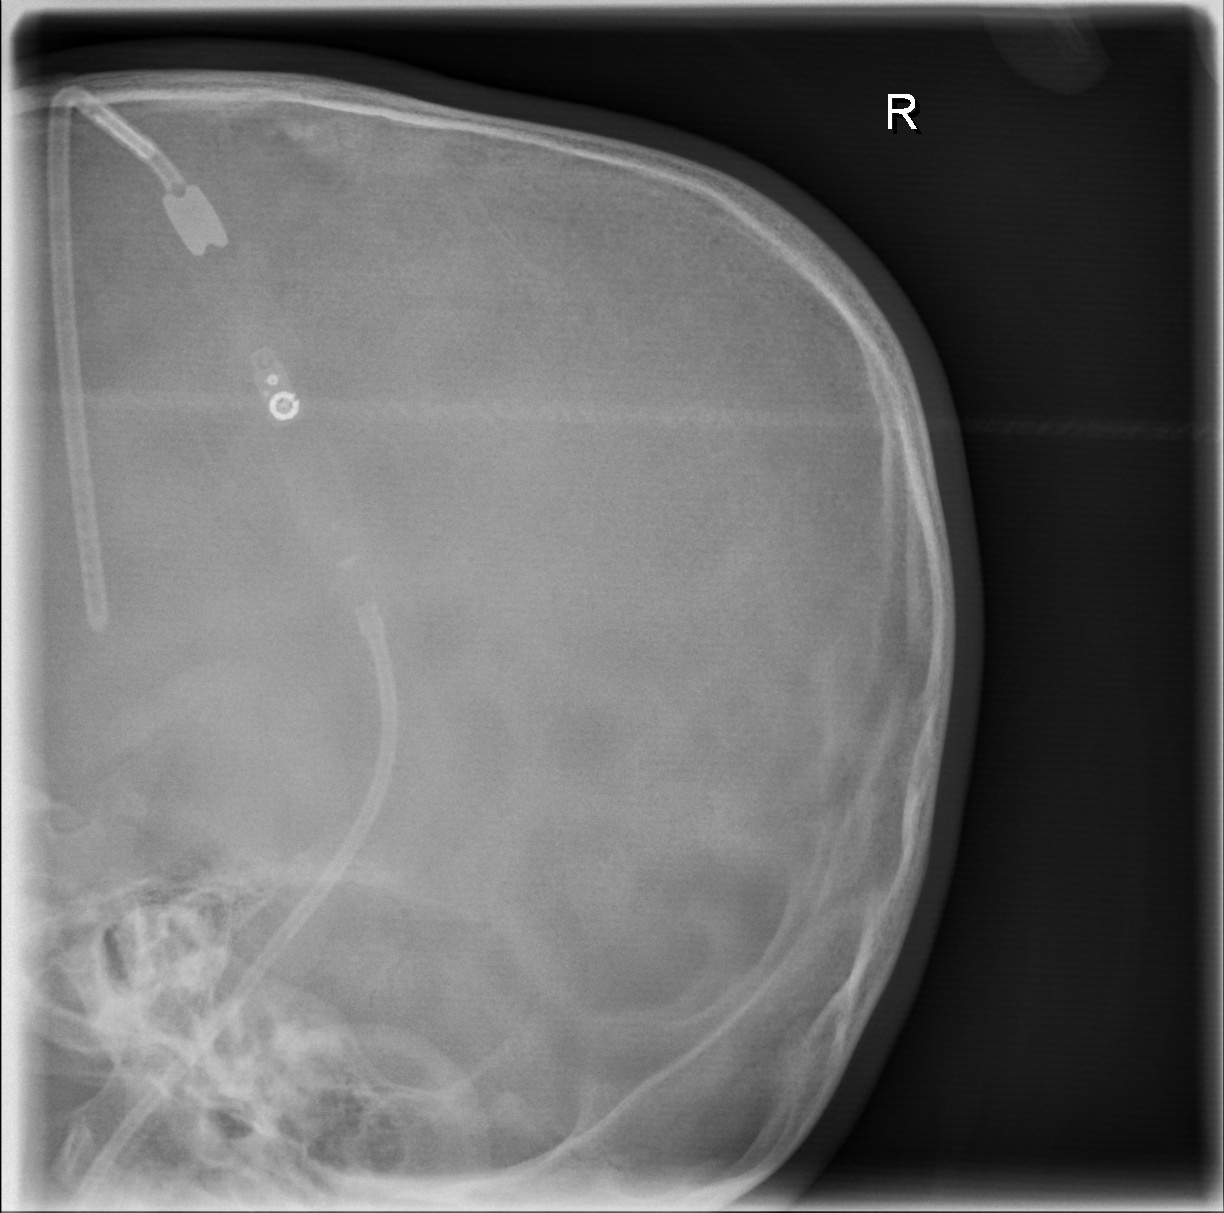Codman Hakim: (239, 367, 313, 439)
